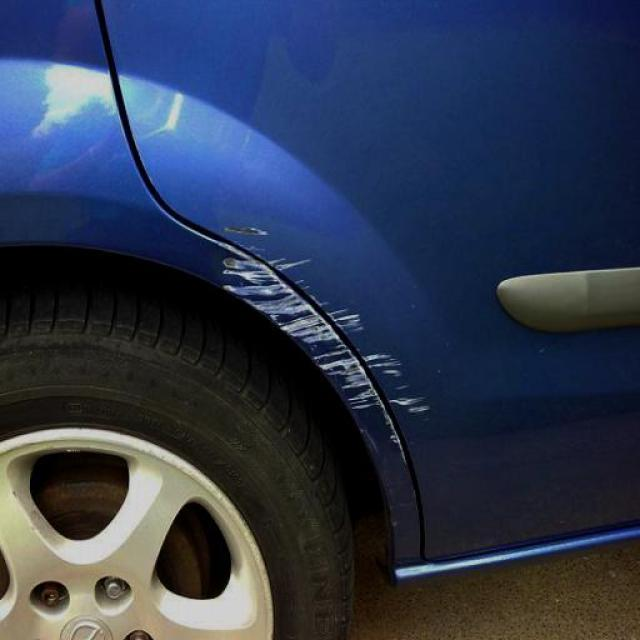Car-Damage: (219, 223, 431, 446)
